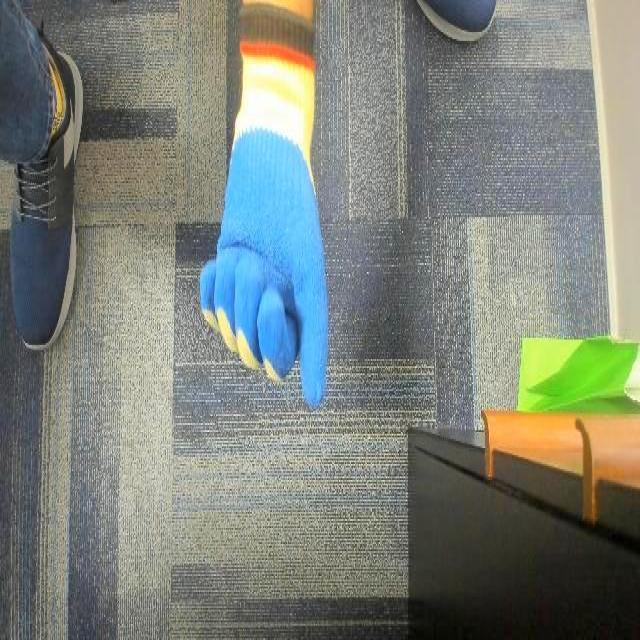Gloves: (173, 0, 348, 429)
